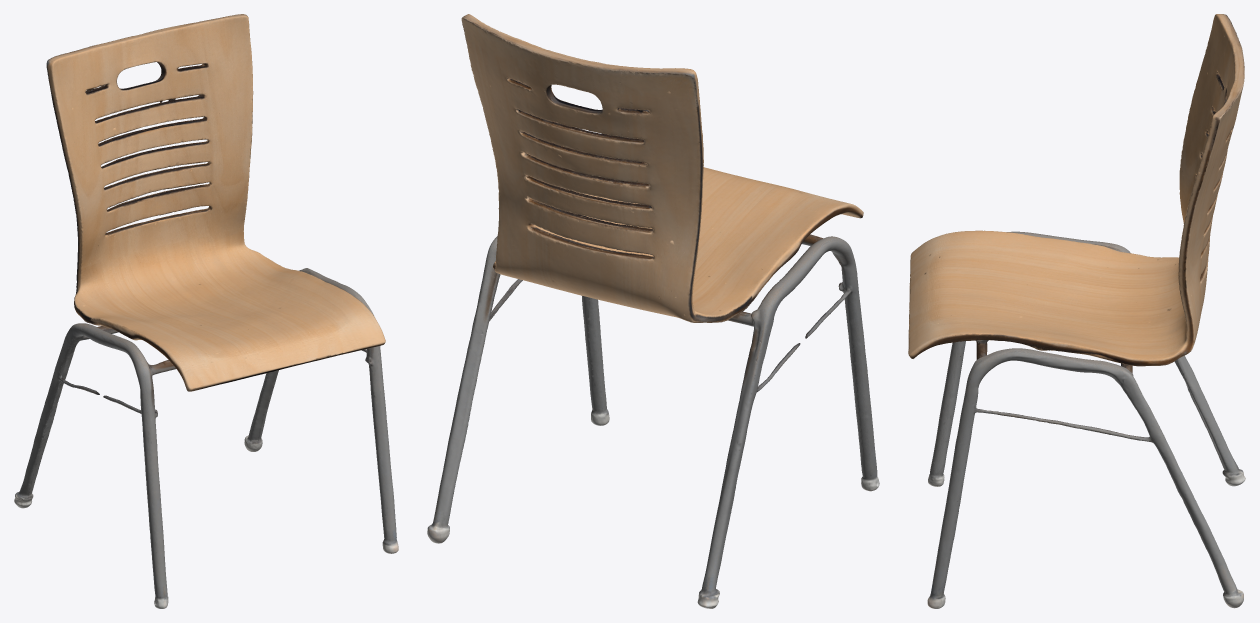
File: dalemans_chair.glb.glb
The picture shows the model from 3 angles, left to right: view 1: azimuth 30°, elevation 25°; view 2: azimuth 150°, elevation 25°; view 3: azimuth 270°, elevation 25°; orthographic projection. The views are drawn at different scales.
Parts seen in each view (by area): view 1: Mesh_0; view 2: Mesh_0; view 3: Mesh_0.
Boxes of the visible parts, x1,y1,x2,y2 form: Mesh_0: (14, 14, 398, 608); Mesh_0: (427, 14, 879, 608); Mesh_0: (908, 14, 1245, 608).
Bounding box in the file's own units: 0.5 × 0.87 × 0.55.
Materials: 1 (1 with a texture image).
